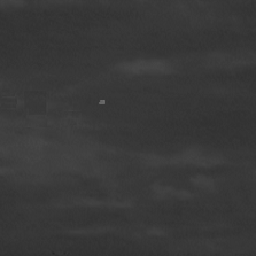Target: (97, 99, 106, 105)
